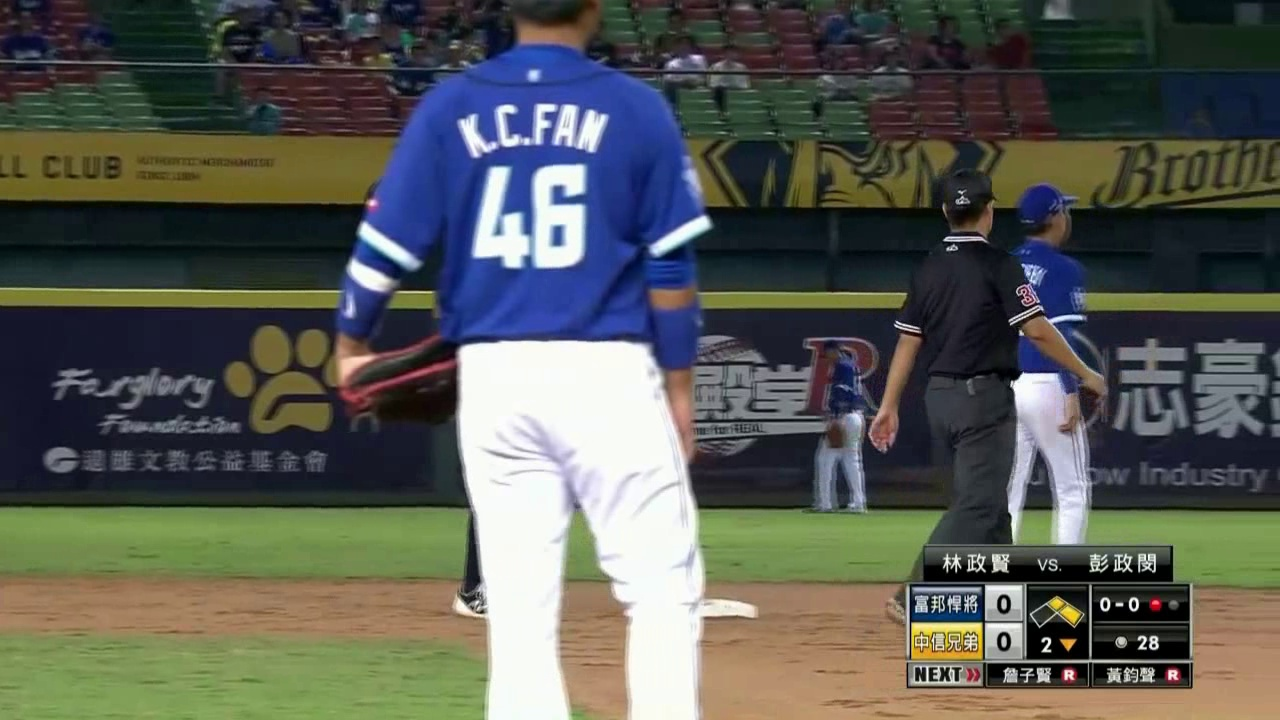base: (1030, 594, 1086, 628)
out: (1146, 593, 1183, 620)
score1: (988, 588, 1019, 617)
score2: (987, 627, 1019, 658)
session: (1029, 628, 1086, 655)
strikeball: (1093, 591, 1142, 618)
total: (1093, 629, 1187, 657)
